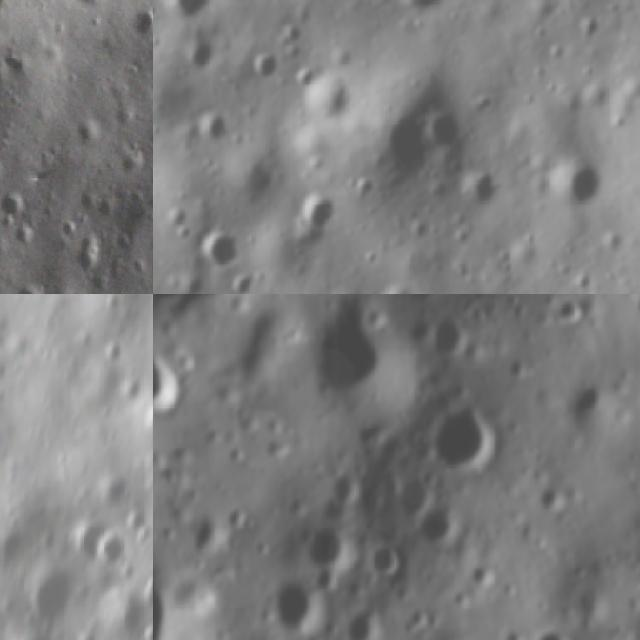crater: (304, 294, 393, 407), (423, 398, 497, 476), (263, 571, 329, 640), (27, 569, 81, 629), (408, 502, 463, 557), (298, 515, 354, 568), (380, 473, 432, 526), (361, 538, 410, 591), (423, 312, 474, 362), (153, 351, 189, 420), (544, 168, 601, 208), (297, 71, 344, 117), (332, 599, 384, 640), (0, 522, 37, 579), (192, 223, 235, 271), (72, 238, 112, 284), (97, 528, 138, 570), (528, 476, 570, 516), (68, 520, 106, 564), (423, 111, 459, 153), (299, 194, 339, 229), (157, 0, 212, 25), (552, 294, 584, 333), (184, 38, 224, 68), (248, 51, 276, 93), (98, 331, 128, 370), (514, 622, 571, 640), (136, 394, 153, 451), (127, 5, 153, 42), (204, 109, 233, 142), (391, 0, 449, 16), (11, 270, 46, 294), (142, 578, 153, 609)
